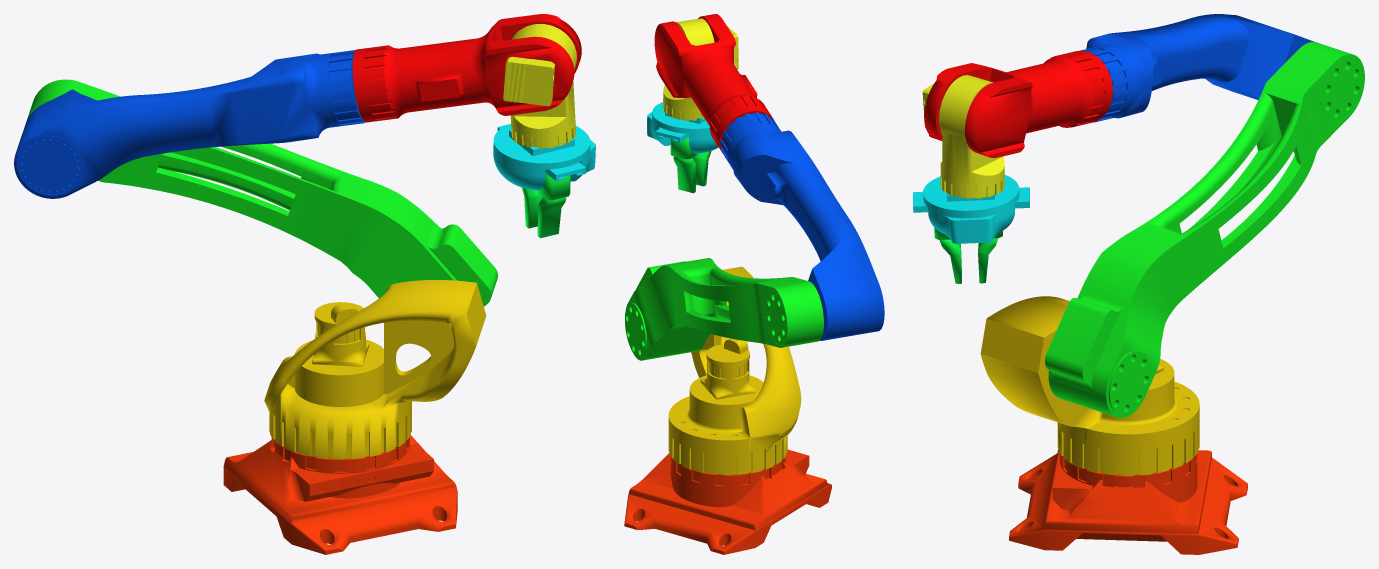
The model's file is robot.fbx.
3 views of the same model, side by side, from view 1: azimuth 30°, elevation 25°; view 2: azimuth 150°, elevation 25°; view 3: azimuth 270°, elevation 25° (orthographic). The views are drawn at different scales.
Visible parts, largest first — view 1: ARM_firstArm_ConvexHull, ARM_rotating_base_ConvexHull, ARM_secondArm_ConvexHull, ARM_FixBase_ConvexHull, ARM_orientaionAxis0_ConvexHull, ARM_orientaionAxis1_ConvexHull, ARM_orientaionAxis2_ConvexHull, gripperRight_ConvexHull; view 2: ARM_firstArm_ConvexHull, ARM_secondArm_ConvexHull, ARM_rotating_base_ConvexHull, ARM_FixBase_ConvexHull, ARM_orientaionAxis0_ConvexHull, ARM_orientaionAxis2_ConvexHull, ARM_orientaionAxis1_ConvexHull, gripperLeft_ConvexHull, gripperRight_ConvexHull; view 3: ARM_firstArm_ConvexHull, ARM_rotating_base_ConvexHull, ARM_FixBase_ConvexHull, ARM_secondArm_ConvexHull, ARM_orientaionAxis0_ConvexHull, ARM_orientaionAxis1_ConvexHull, ARM_orientaionAxis2_ConvexHull, gripperRight_ConvexHull.
Boxes of the visible parts, bbox=[...] form: ARM_firstArm_ConvexHull: bbox=[27, 79, 497, 306]; ARM_rotating_base_ConvexHull: bbox=[264, 280, 486, 459]; ARM_secondArm_ConvexHull: bbox=[14, 50, 364, 198]; ARM_FixBase_ConvexHull: bbox=[223, 435, 457, 554]; ARM_orientaionAxis0_ConvexHull: bbox=[352, 14, 581, 122]; ARM_orientaionAxis1_ConvexHull: bbox=[503, 24, 576, 148]; ARM_orientaionAxis2_ConvexHull: bbox=[493, 123, 595, 190]; gripperRight_ConvexHull: bbox=[537, 173, 570, 237]; ARM_firstArm_ConvexHull: bbox=[625, 258, 823, 360]; ARM_secondArm_ConvexHull: bbox=[720, 112, 884, 340]; ARM_rotating_base_ConvexHull: bbox=[668, 266, 801, 475]; ARM_FixBase_ConvexHull: bbox=[624, 449, 831, 554]; ARM_orientaionAxis0_ConvexHull: bbox=[654, 14, 773, 153]; ARM_orientaionAxis2_ConvexHull: bbox=[647, 102, 718, 153]; ARM_orientaionAxis1_ConvexHull: bbox=[662, 18, 738, 120]; gripperLeft_ConvexHull: bbox=[670, 137, 697, 193]; gripperRight_ConvexHull: bbox=[692, 151, 711, 186]; ARM_firstArm_ConvexHull: bbox=[1045, 42, 1364, 417]; ARM_rotating_base_ConvexHull: bbox=[980, 296, 1199, 475]; ARM_FixBase_ConvexHull: bbox=[1009, 449, 1247, 554]; ARM_secondArm_ConvexHull: bbox=[1080, 14, 1314, 122]; ARM_orientaionAxis0_ConvexHull: bbox=[924, 50, 1112, 157]; ARM_orientaionAxis1_ConvexHull: bbox=[922, 75, 1004, 198]; ARM_orientaionAxis2_ConvexHull: bbox=[913, 175, 1029, 243]; gripperRight_ConvexHull: bbox=[934, 227, 961, 283].
Bounding box in the file's own units: 2.55 × 2.37 × 2.85.
